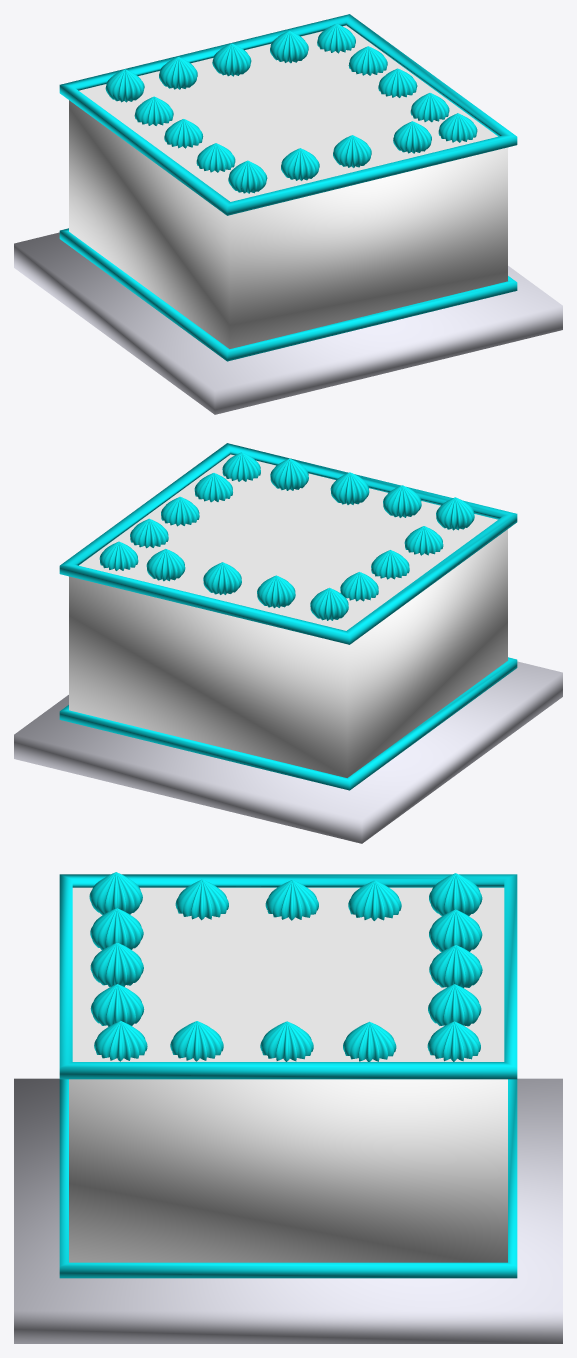
File: square_vanilla_style1.glb
3 views of the same model, one above another, from view 1: azimuth 30°, elevation 25°; view 2: azimuth 150°, elevation 25°; view 3: azimuth 270°, elevation 25° (orthographic). The views are drawn at different scales.
Parts seen in each view (by area): view 1: CakeBase, IcingStand, CakeTopCircle, IcingRing, IcingRing.001, design12, design13, design8, design11, design9, design10, design7 (+9 smaller); view 2: CakeBase, IcingStand, CakeTopCircle, IcingRing, IcingRing.001, design13, design12, design9, design8, design11, design10, design7 (+9 smaller); view 3: CakeBase, IcingStand, CakeTopCircle, IcingRing, IcingRing.001, design9, design8, design7, design6, design12, design13, design11 (+9 smaller).
Part boxes in pixels (x1,y1,x2,y2): CakeBase: (69,100,507,348); IcingStand: (14,232,562,414); CakeTopCircle: (79,25,497,201); IcingRing: (59,14,517,215); IcingRing.001: (59,228,517,361); design12: (105,69,144,102); design13: (228,160,267,193); design8: (212,43,251,76); design11: (159,57,197,89); design9: (333,135,371,167); design10: (281,148,319,180); design7: (270,30,308,63); CakeBase: (69,529,507,777); IcingStand: (14,661,562,843); CakeTopCircle: (79,454,497,630); IcingRing: (59,443,517,644); IcingRing.001: (59,657,517,790); design13: (436,497,474,530); design12: (310,588,348,620); design9: (330,472,369,504); design8: (203,562,241,594); design11: (257,575,295,608); design10: (383,485,421,517); design7: (146,549,185,581); CakeBase: (69,1079,507,1262); IcingStand: (14,1078,562,1343); CakeTopCircle: (72,887,504,1061); IcingRing: (59,874,517,1079); IcingRing.001: (59,1079,517,1278); design9: (90,942,143,986); design8: (429,945,482,987); design7: (428,984,481,1026); design6: (90,984,144,1026); design12: (429,873,482,915); design13: (89,872,142,915); design11: (429,909,482,951).
Bounding box in the file's own units: 3 × 1.73 × 3.
